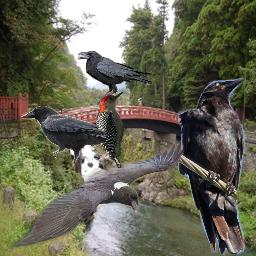Crow: (10, 141, 184, 250), (178, 77, 246, 255), (21, 106, 105, 163), (78, 51, 153, 107)
Woodpecker: (95, 91, 129, 168)
